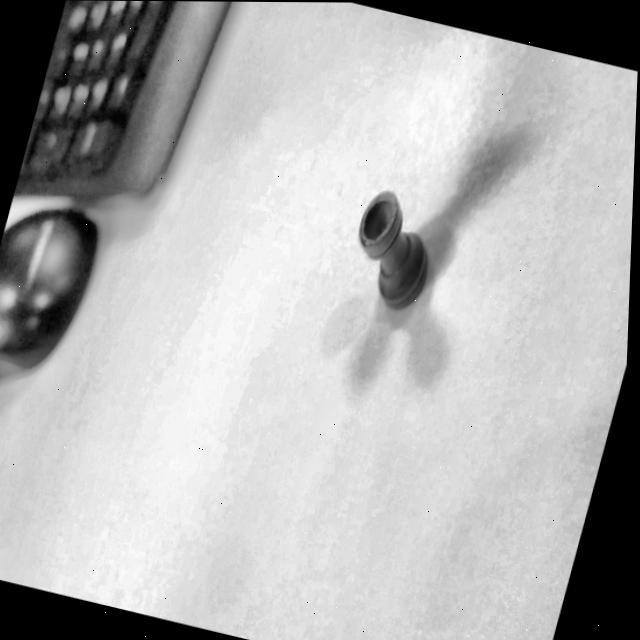black-rook: (319, 161, 464, 352)
